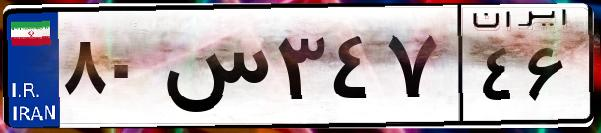0: (110, 28, 158, 98)
3: (270, 28, 330, 110)
4: (330, 28, 385, 110), (475, 38, 525, 113)
6: (525, 38, 570, 115)
7: (385, 28, 445, 110)
8: (57, 26, 110, 100)
س: (158, 20, 270, 120)
